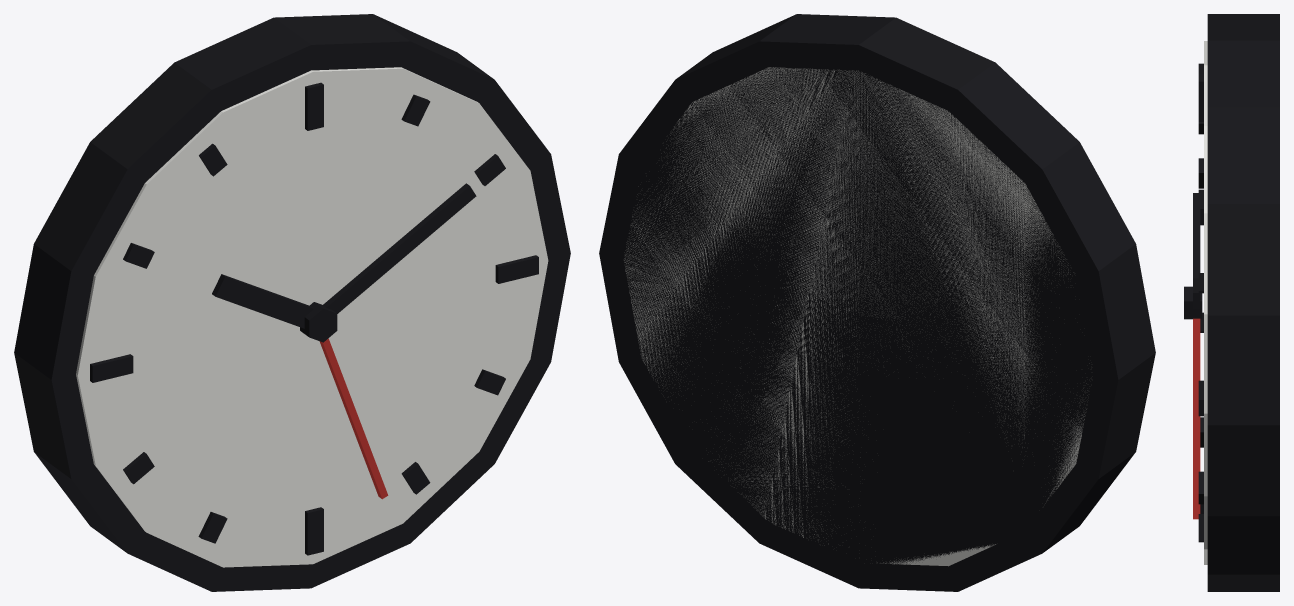
Rendered from Wall_Clock.fbx.
3 renders of one model, left to right at view 1: azimuth 30°, elevation 25°; view 2: azimuth 150°, elevation 25°; view 3: azimuth 270°, elevation 25°, orthographic. The views are drawn at different scales.
Visible parts, largest first — view 1: Wall_Clock; view 2: Wall_Clock; view 3: Wall_Clock.
Part boxes in pixels (bbox=[...]): Wall_Clock: bbox=[14, 14, 570, 591]; Wall_Clock: bbox=[599, 14, 1155, 591]; Wall_Clock: bbox=[1184, 14, 1279, 591].
Bounding box in the file's own units: 0.32 × 0.32 × 0.053.
1 material, 1 textured.
